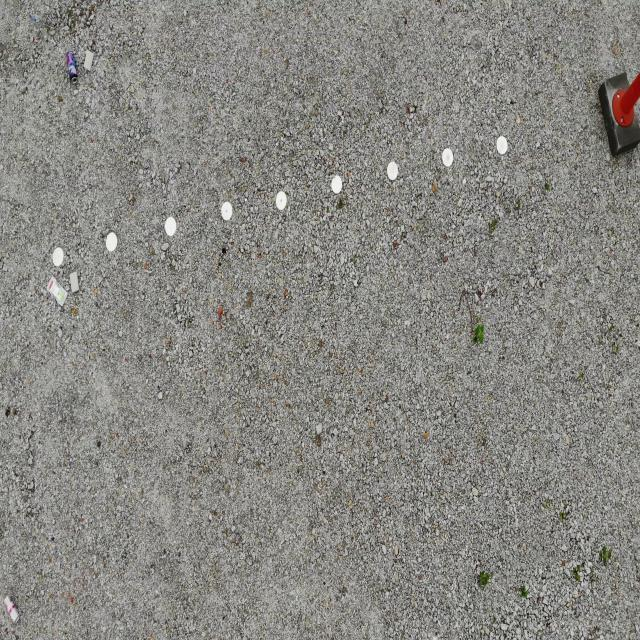rubbish: (45, 275, 68, 311), (4, 592, 21, 627), (65, 48, 78, 83), (82, 48, 94, 72), (69, 271, 79, 293)
